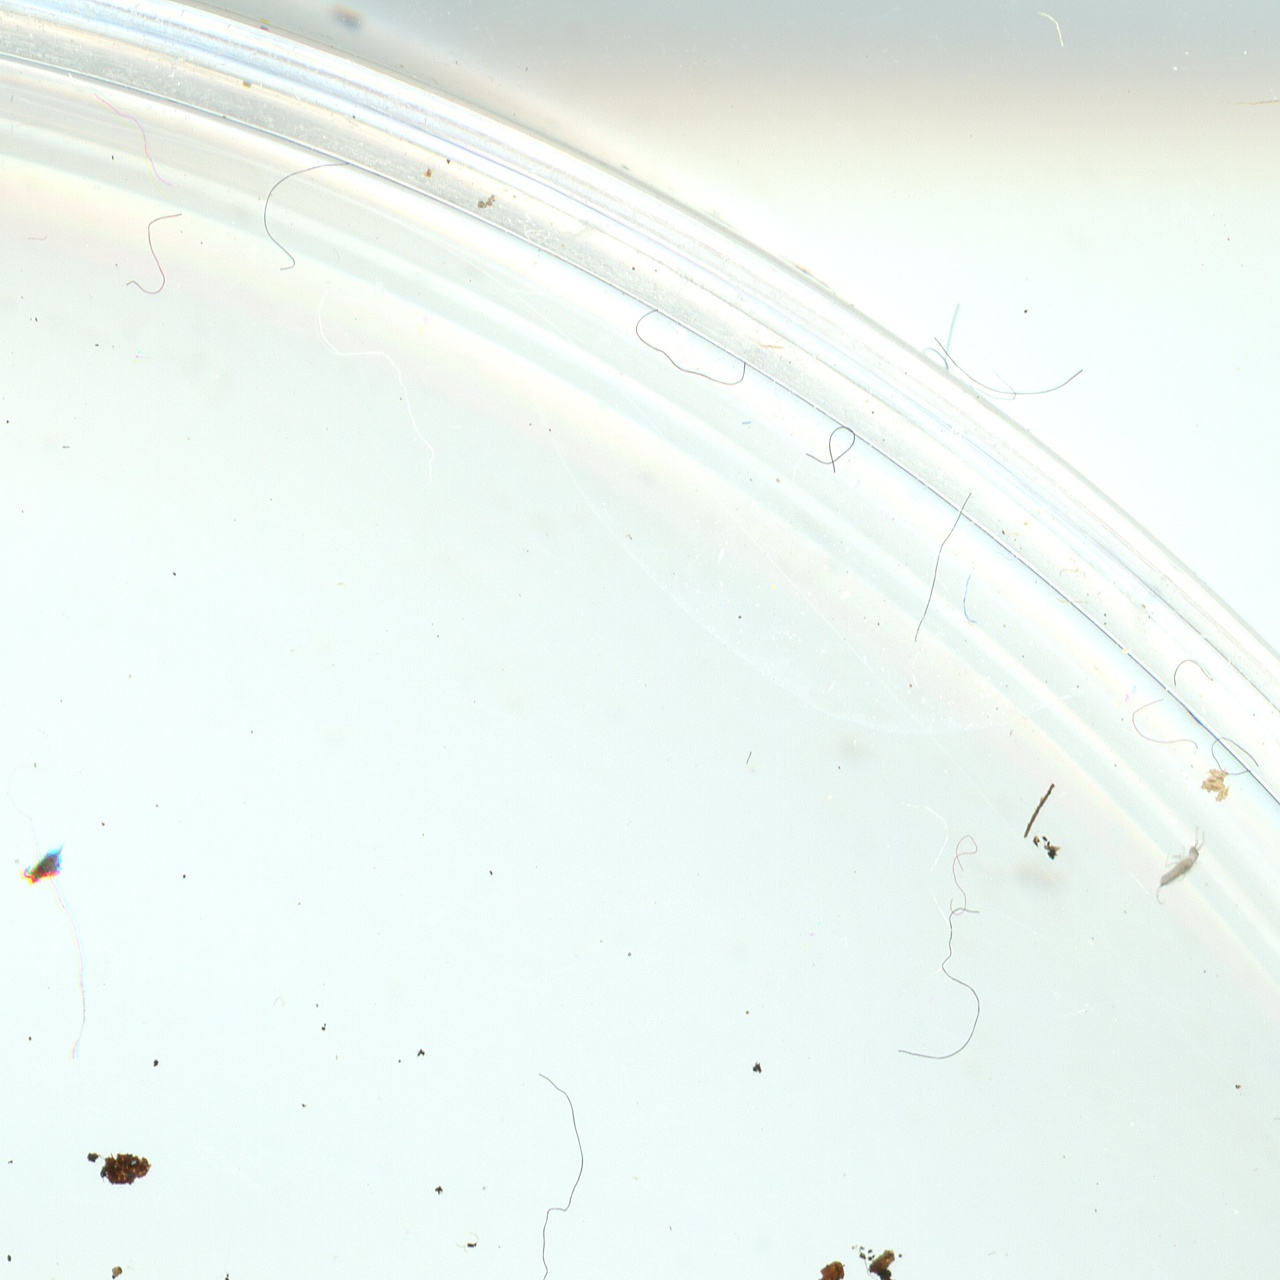arthropod: (1147, 824, 1211, 907), (23, 843, 65, 887)
